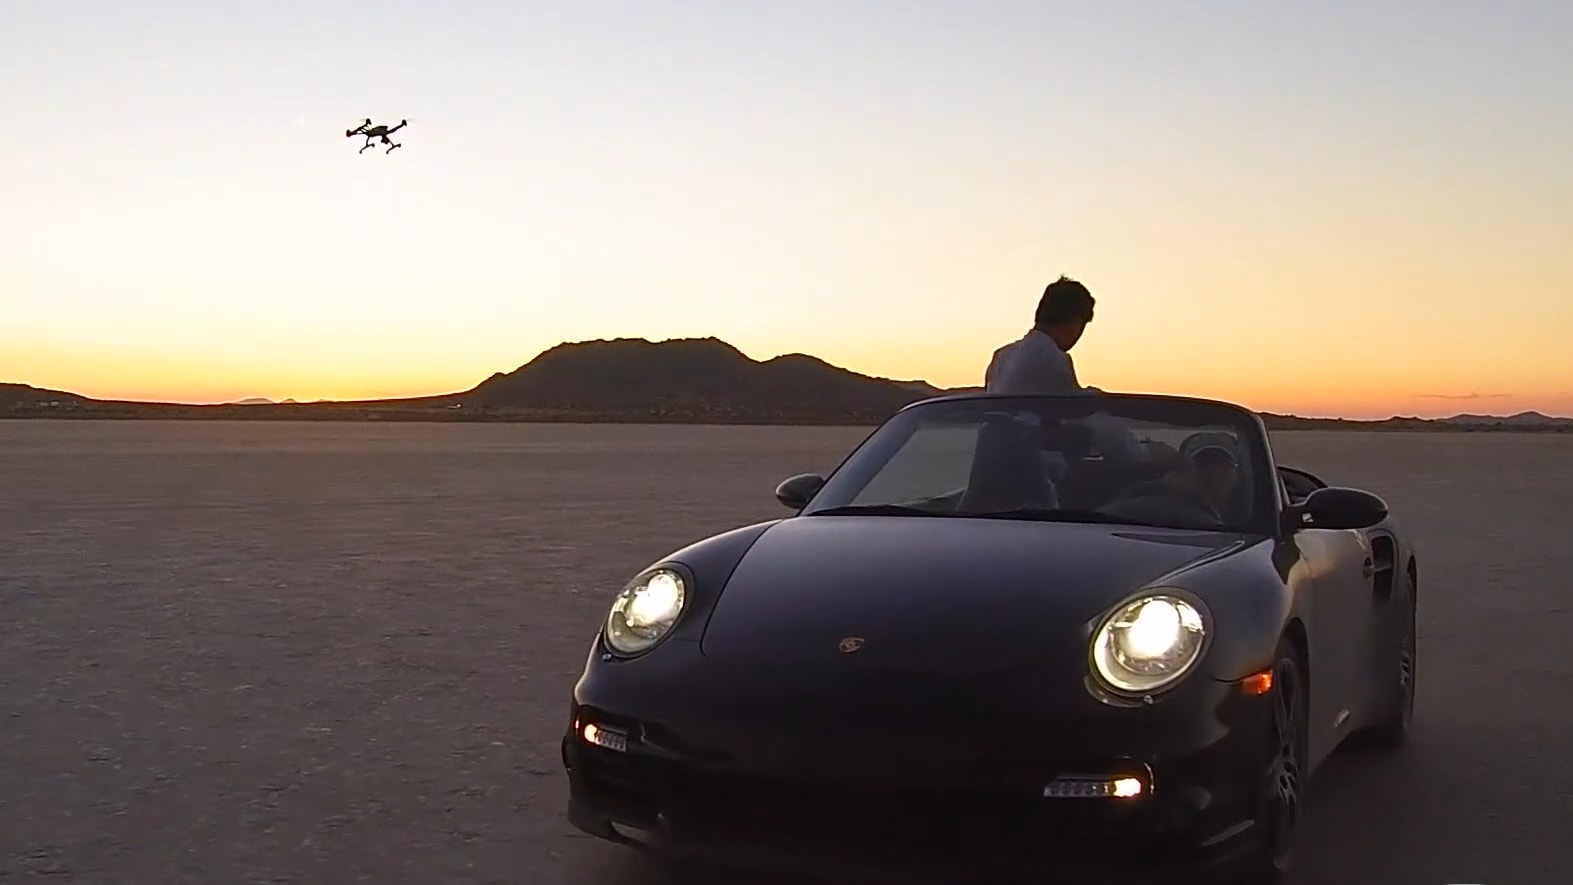drone: (339, 113, 423, 158)
person: (981, 272, 1112, 503)
